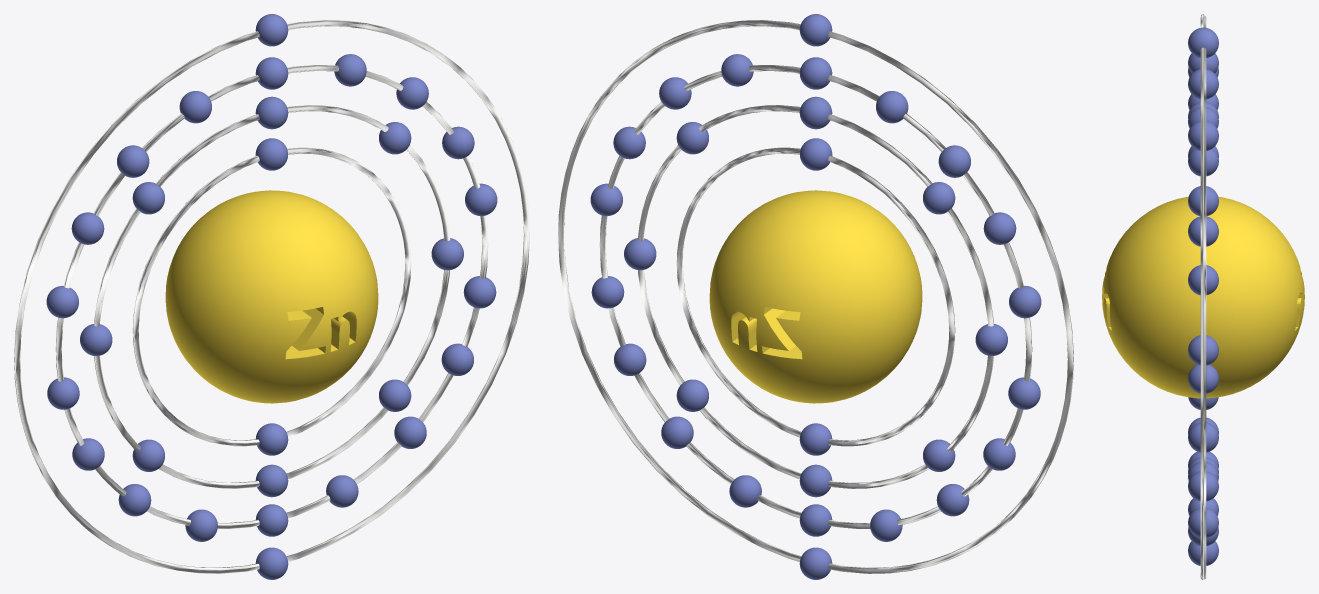
The picture shows the model from 3 angles, left to right: view 1: azimuth 30°, elevation 25°; view 2: azimuth 150°, elevation 25°; view 3: azimuth 270°, elevation 25°; orthographic projection. The views are drawn at different scales.
Visible parts, largest first — view 1: Body1.003, Body3.001, Body1.002, Body2.001, Body1, Body18, Body14, Body16, Body29, Body13, Body21, Body23 (+23 smaller); view 2: Body1.003, Body3.001, Body1.002, Body2.001, Body1, Body18, Body14, Body16, Body29, Body13, Body21, Body23 (+23 smaller); view 3: Body1.003, Body3.001, Body8, Body12, Body22, Body24, Body21, Body30, Body16, Body17, Body28, Body7 (+6 smaller).
Part boxes in pixels (x1,y1,x2,y2): Body1.003: (165,190,378,403); Body3.001: (14,20,529,573); Body1.002: (94,105,450,488); Body2.001: (55,65,488,528); Body1: (132,147,411,446); Body18: (117,145,149,177); Body14: (379,379,411,411); Body16: (394,416,426,448); Body29: (71,212,104,244); Body13: (132,182,164,214); Body21: (441,343,473,375); Body23: (46,285,78,318); Body1.003: (709,190,922,403); Body3.001: (558,20,1073,573); Body1.002: (637,105,993,488); Body2.001: (599,65,1032,528); Body1: (676,147,955,446); Body18: (938,145,970,177); Body14: (676,379,708,411); Body16: (661,416,693,448); Body29: (983,212,1016,244); Body13: (923,182,955,214); Body21: (614,343,646,375); Body23: (1009,285,1041,318); Body1.003: (1102,196,1304,398); Body3.001: (1200,14,1206,579); Body8: (1188,27,1218,57); Body12: (1188,216,1218,246); Body22: (1188,422,1218,452); Body24: (1188,335,1218,365); Body21: (1188,471,1218,501); Body30: (1188,265,1218,295); Body16: (1188,507,1218,537); Body17: (1188,186,1218,216); Body28: (1188,121,1218,150); Body7: (1188,69,1218,99).
Bounding box in the file's own units: 0.293 × 0.306 × 0.105.
